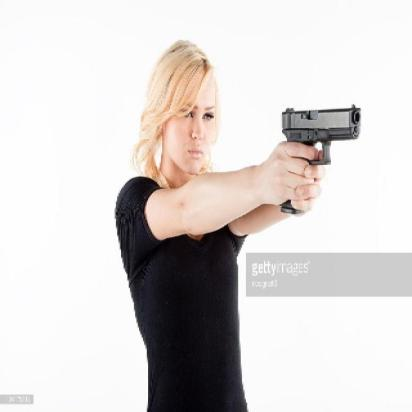Gun: (277, 102, 362, 216)
